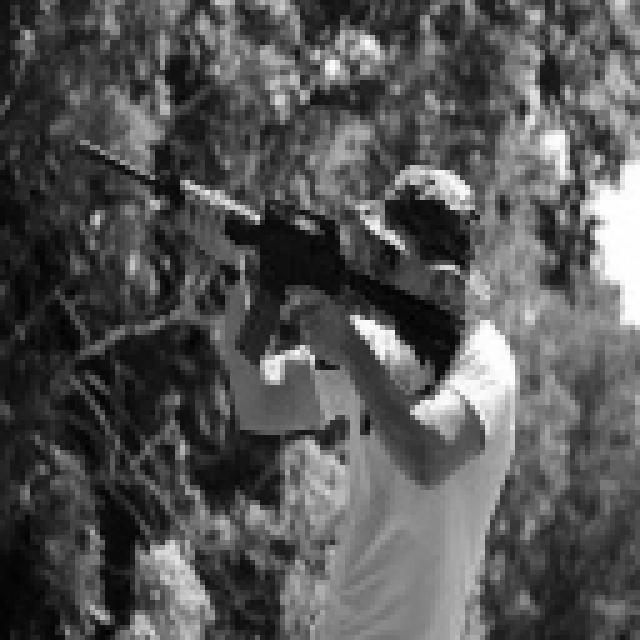Rifle: (61, 108, 475, 409)
